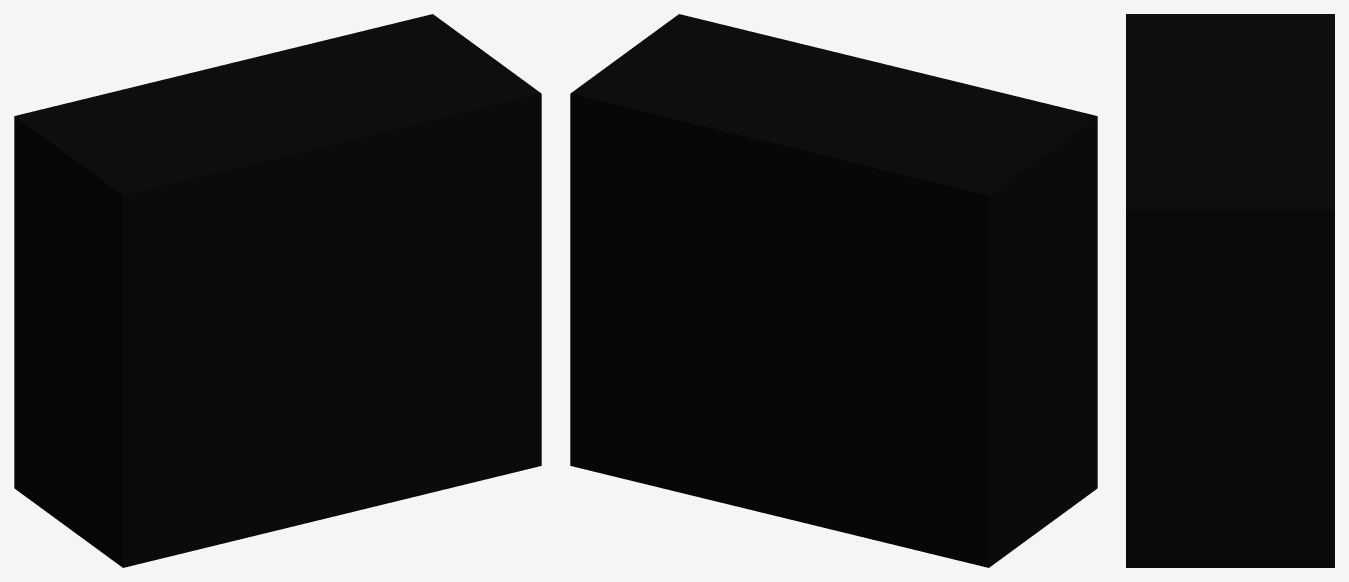
Rendered from bedroomDresser.glb.
3 renders of one model, left to right at view 1: azimuth 30°, elevation 25°; view 2: azimuth 150°, elevation 25°; view 3: azimuth 270°, elevation 25°, orthographic. The views are drawn at different scales.
Visible parts, largest first — view 1: bedroomDresser_0; view 2: bedroomDresser_0; view 3: bedroomDresser_0.
Boxes of the visible parts, x1,y1,x2,y2 form: bedroomDresser_0: [14, 14, 541, 567]; bedroomDresser_0: [570, 14, 1097, 567]; bedroomDresser_0: [1126, 14, 1334, 567].
Bounding box in the file's own units: 1.25 × 1.06 × 0.5625.
1 material, 1 textured.
